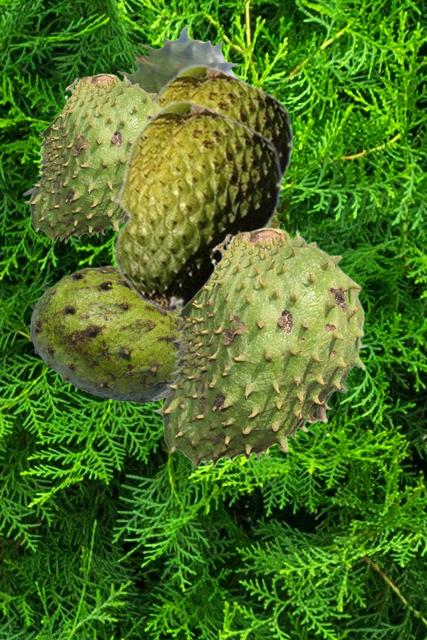guyabano: (151, 227, 366, 468), (110, 99, 283, 315), (112, 25, 282, 231), (22, 73, 160, 242), (28, 265, 180, 403), (154, 63, 294, 181)
